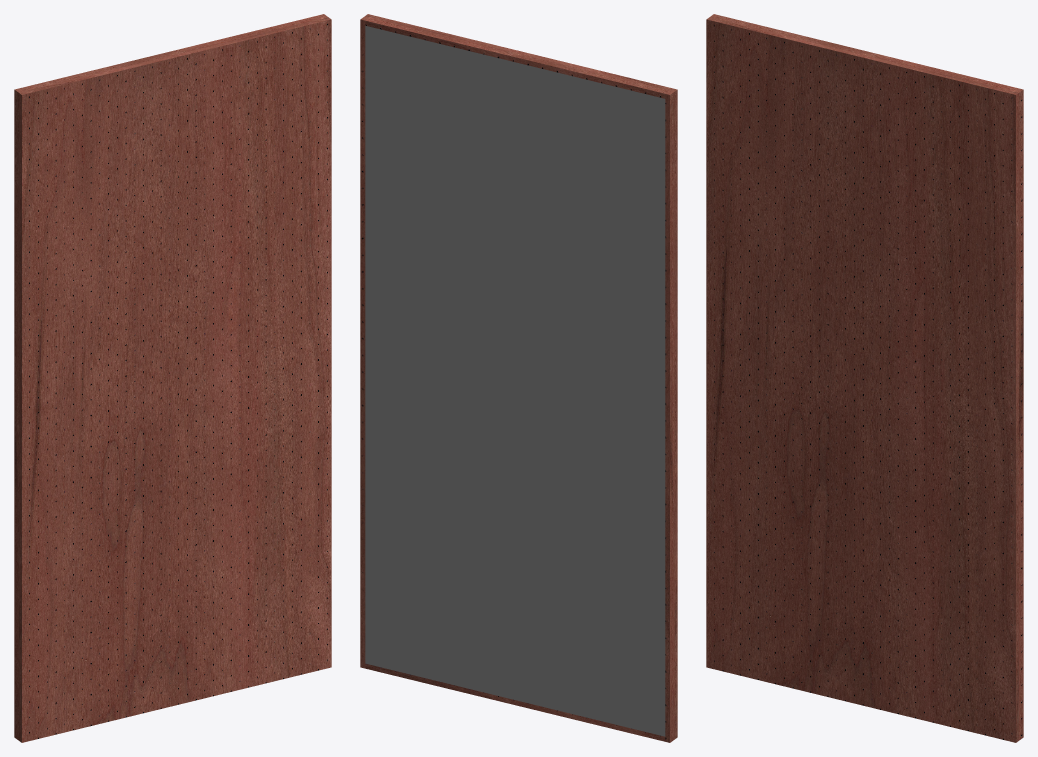
The model's file is MicroPSC.glb.
3 renders of one model, left to right at view 1: azimuth 30°, elevation 25°; view 2: azimuth 150°, elevation 25°; view 3: azimuth 330°, elevation 25°, orthographic.
Visible parts, largest first — view 1: Body6.004; view 2: Body1.005, Body6.004; view 3: Body6.004.
Boxes of the visible parts, x1,y1,x2,y2 form: Body6.004: (14, 14, 331, 742); Body1.005: (365, 25, 665, 736); Body6.004: (360, 14, 677, 742); Body6.004: (706, 14, 1023, 742).
Bounding box in the file's own units: 48 × 96 × 2.
2 materials, 1 textured.
